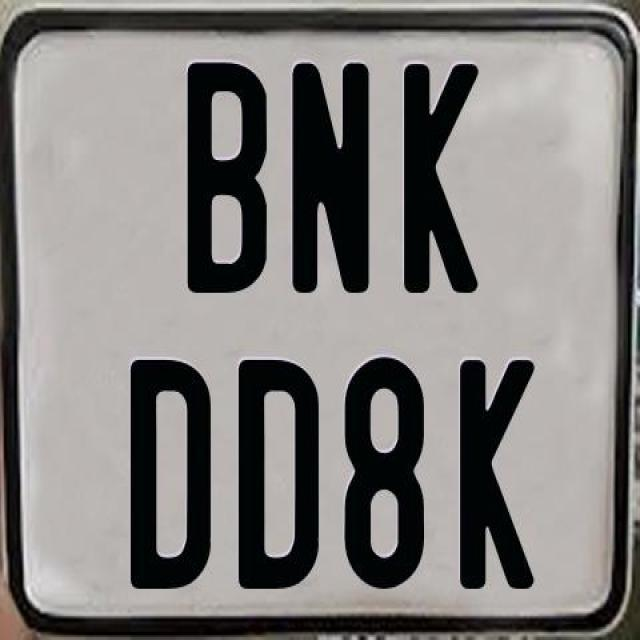8: (342, 354, 427, 594)
B: (183, 61, 270, 293)
D: (238, 357, 322, 592), (126, 360, 210, 590)
K: (403, 61, 481, 300), (456, 360, 535, 589)
N: (292, 62, 370, 302)
